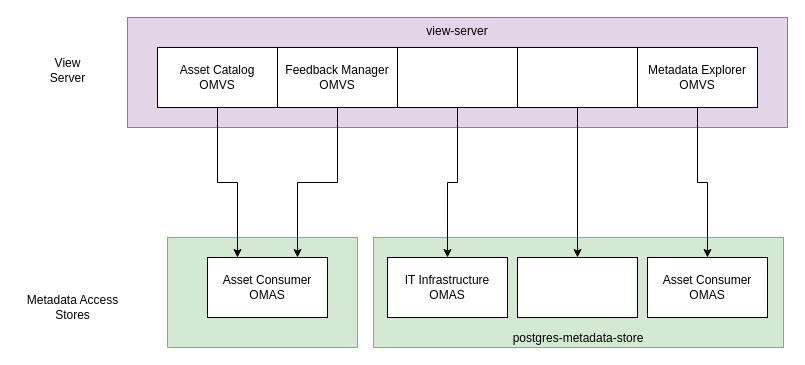
This 805x365 diagram has some shape labels left out. Here are the shapes that lost their labels. From the top down, the box of each, then its label:
(396, 46, 518, 108): Runtime Manager OMVS
(516, 46, 638, 108): Automated Curation OMVS
(166, 236, 358, 348): xtdb-kv-metadata-store
(516, 256, 638, 318): Asset Owner OMAS
